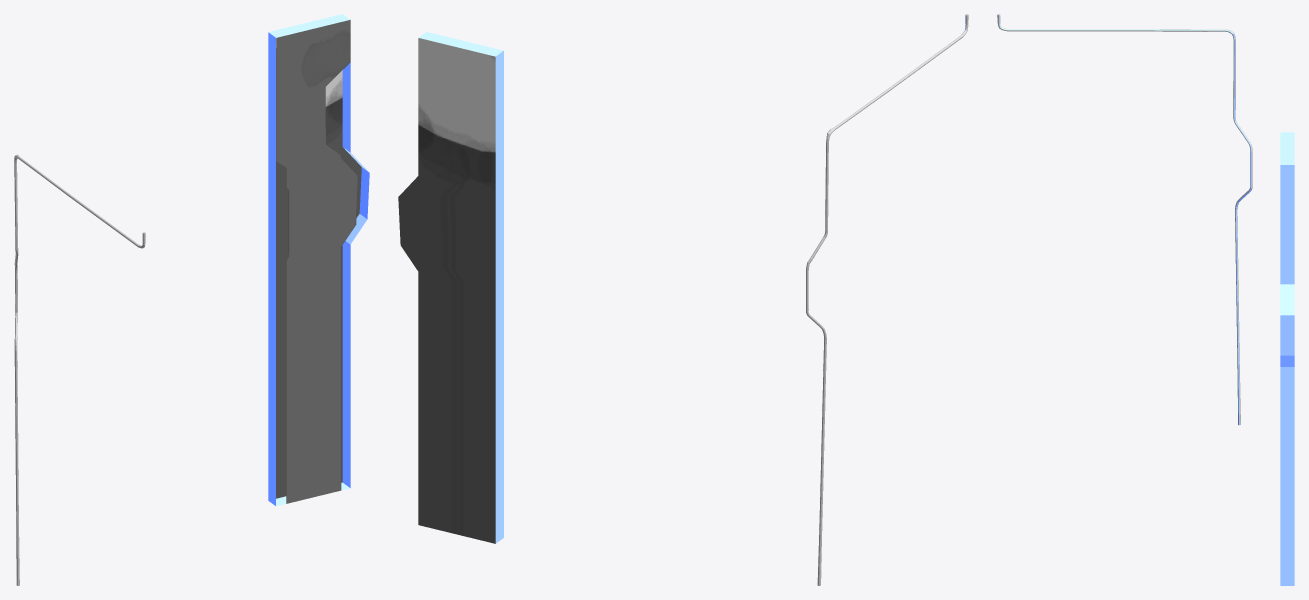
Rendered from tech.fbx.
3 views of the same model, side by side, from view 1: azimuth 30°, elevation 25°; view 2: azimuth 150°, elevation 25°; view 3: azimuth 270°, elevation 25° (orthographic). The views are drawn at different scales.
Parts seen in each view (by area): view 1: tech_decor, tech_cable; view 2: tech_decor, tech_cable; view 3: tech_decor, tech_cable.
Part boxes in pixels (x1,y1,x2,y2): tech_decor: (268,14,369,506); tech_cable: (14,154,145,585); tech_decor: (398,32,503,543); tech_cable: (806,14,968,585); tech_decor: (1280,132,1294,585); tech_cable: (997,14,1252,425).
Size of the model in its own units: 316 by 369 by 236.
